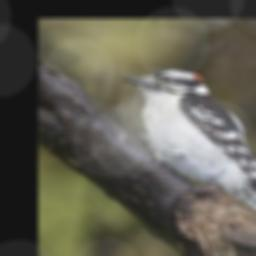Woodpecker: (120, 69, 256, 225)
